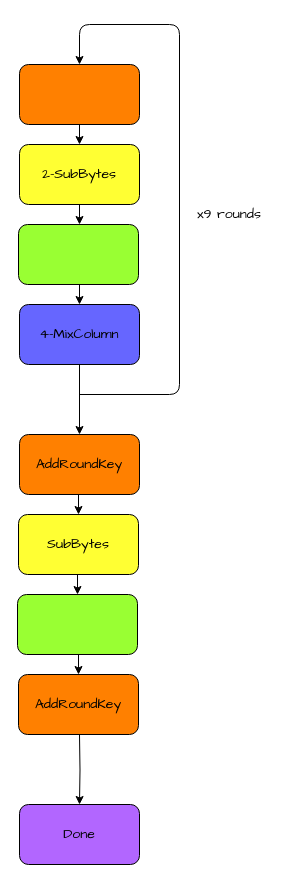
Some shapes in this 287 by 882 pixel diagram are drawn without their labels. Here are the shapes that lost their labels. From the top down, the box of each, then its label:
(18, 64, 140, 124): 1-AddRoundKey
(18, 224, 138, 284): 3-ShiftRows
(16, 594, 138, 654): ShiftRows
